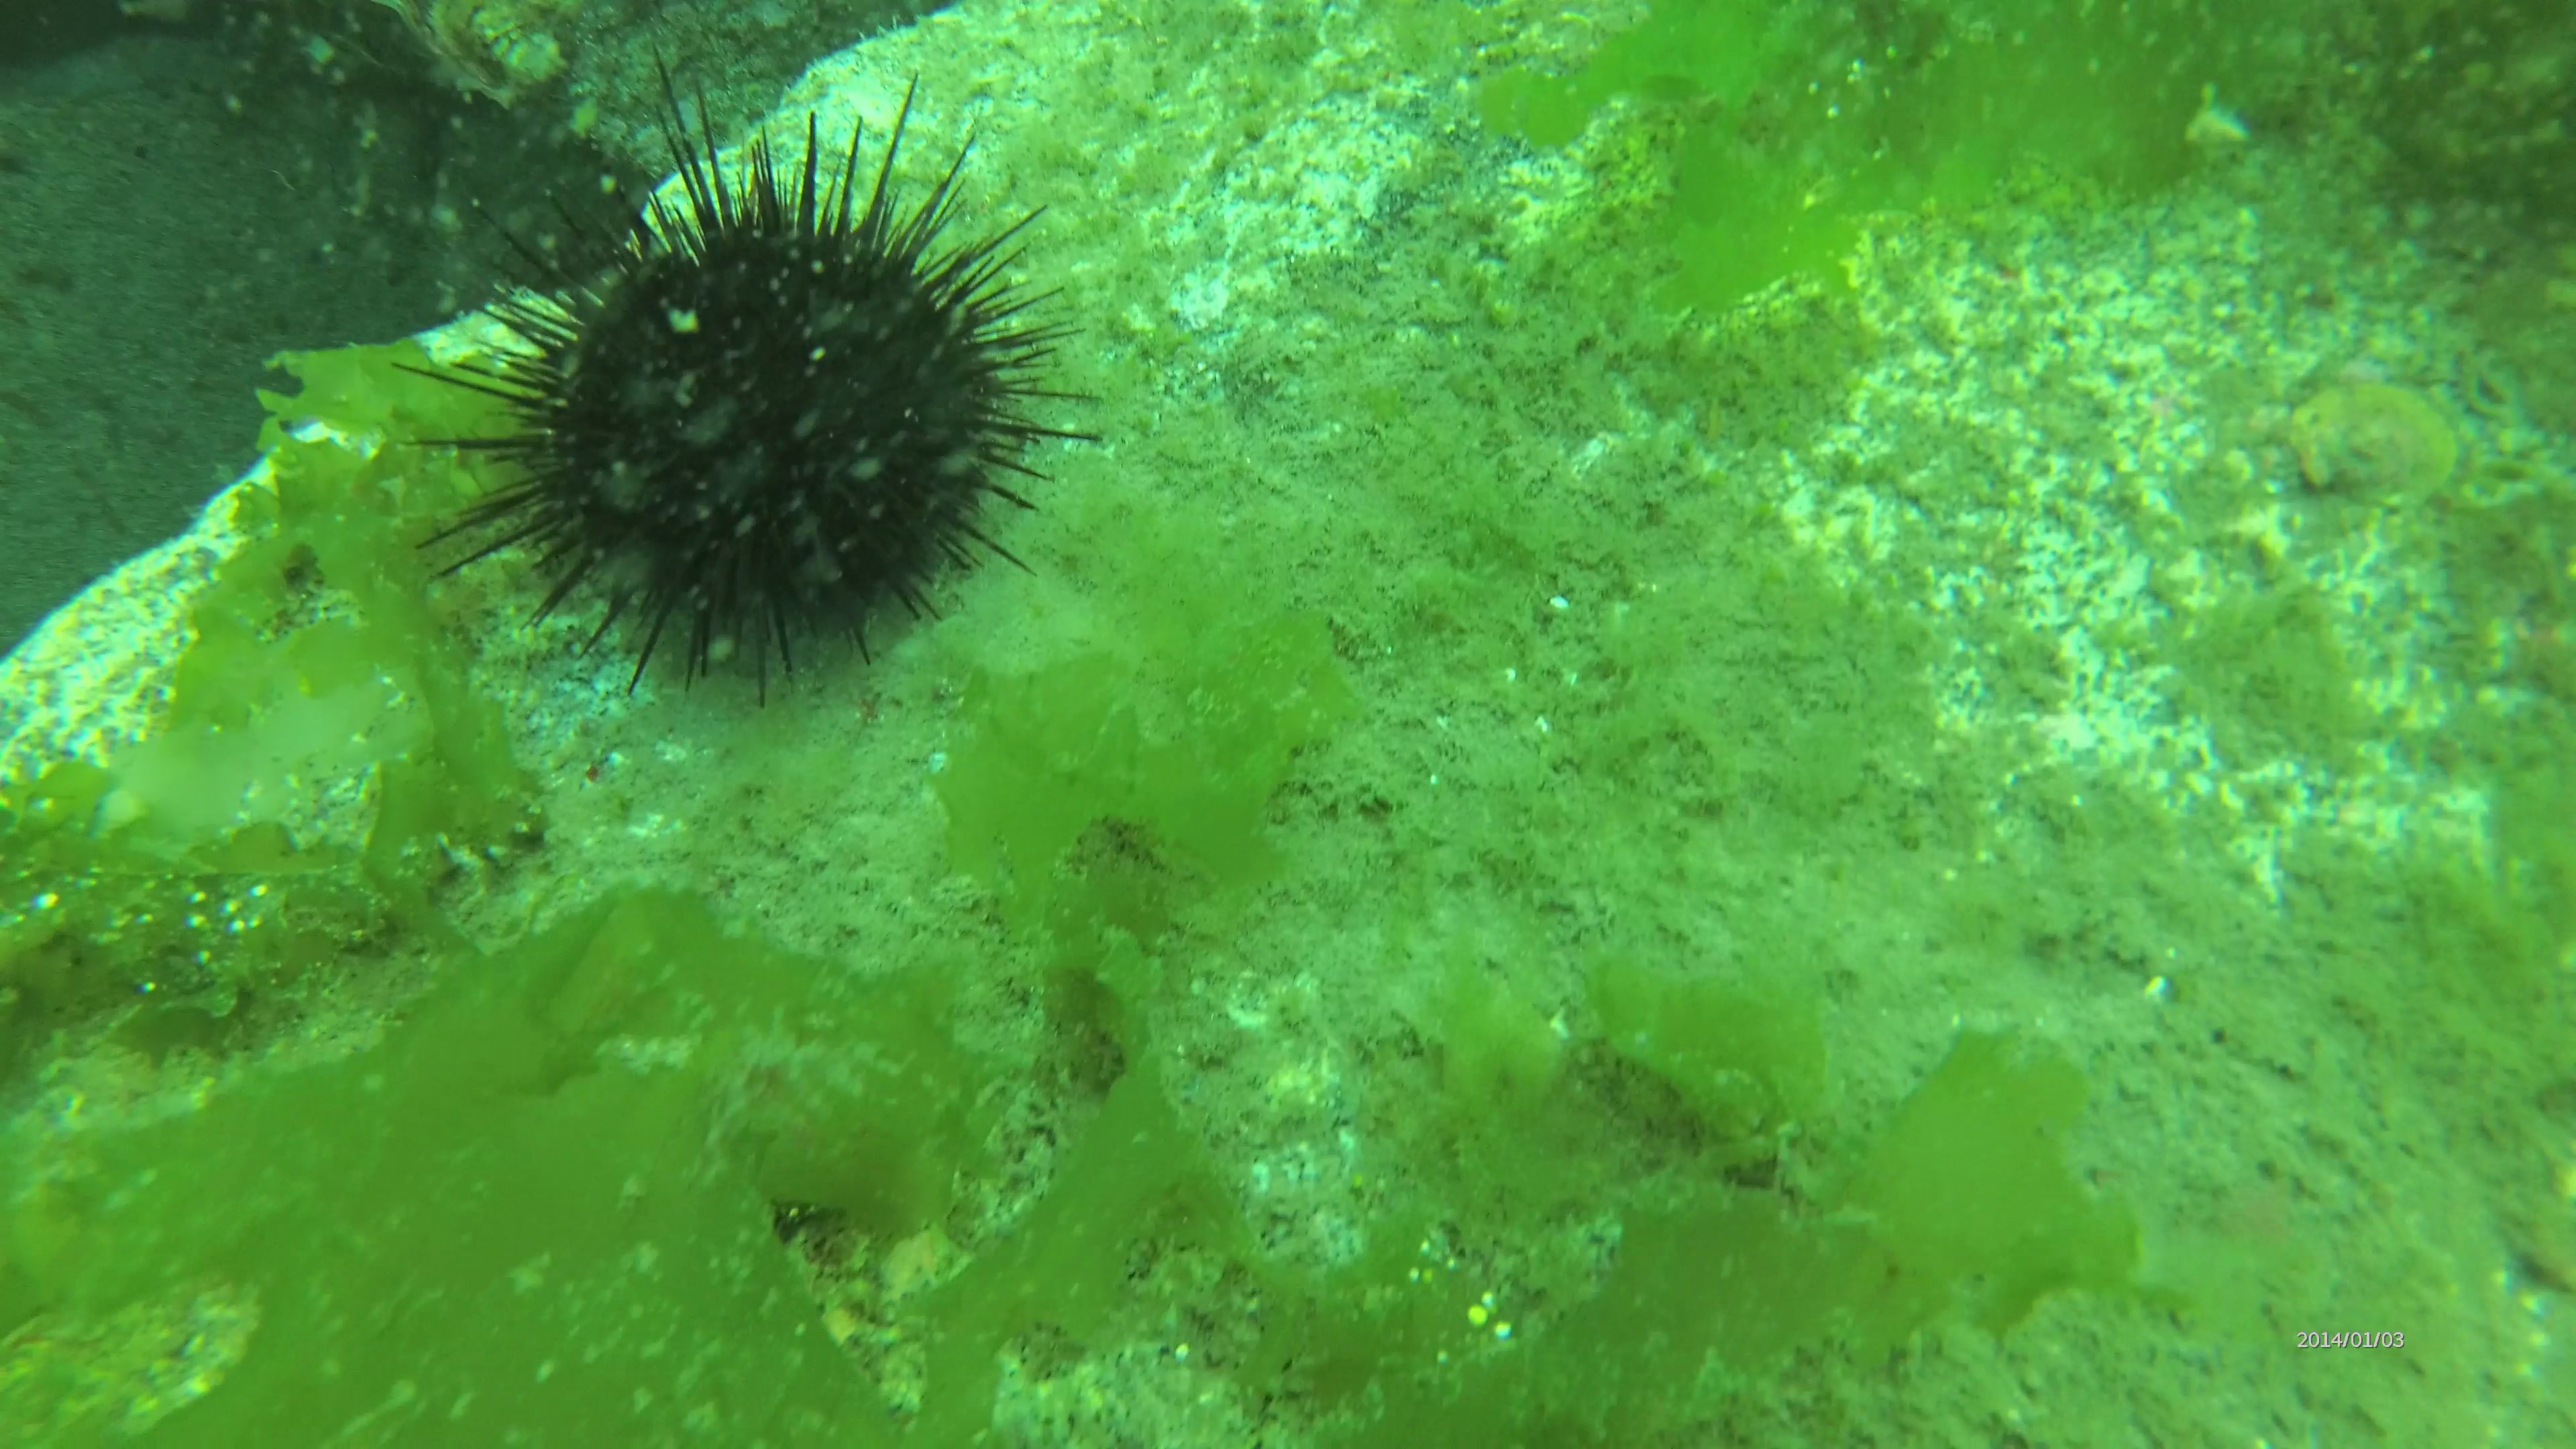echinus: (393, 44, 1113, 711)
